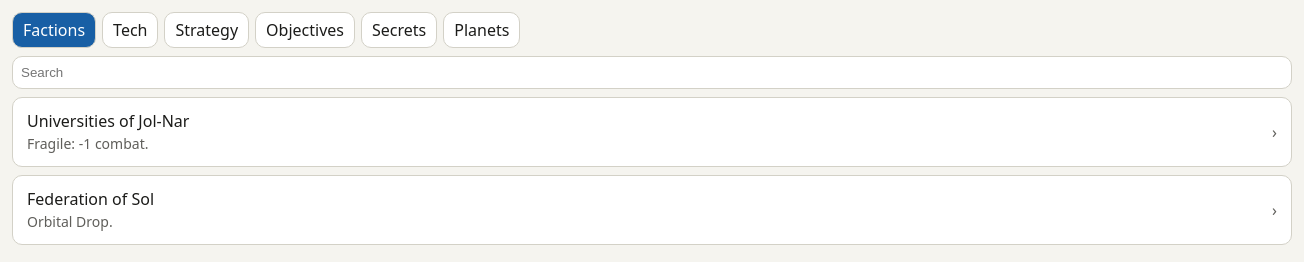
Test: ReferenceBrowser › lists catalog planets in the Planets tab
The width and height of the screenshot is (1304, 262).
Click the button "Planets" at (482, 30), box x1=443 y1=12 x2=520 y2=48
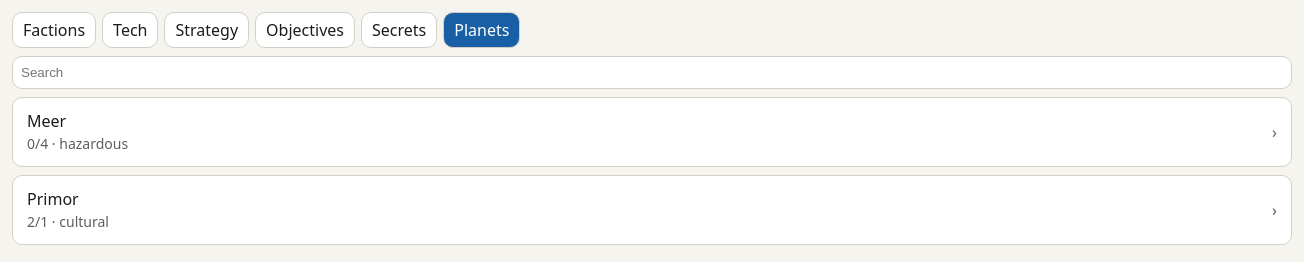
expect the text "Meer" is shown: met, box x1=27 y1=110 x2=66 y2=132
expect the text "Primor" is shown: met, box x1=27 y1=188 x2=79 y2=210
